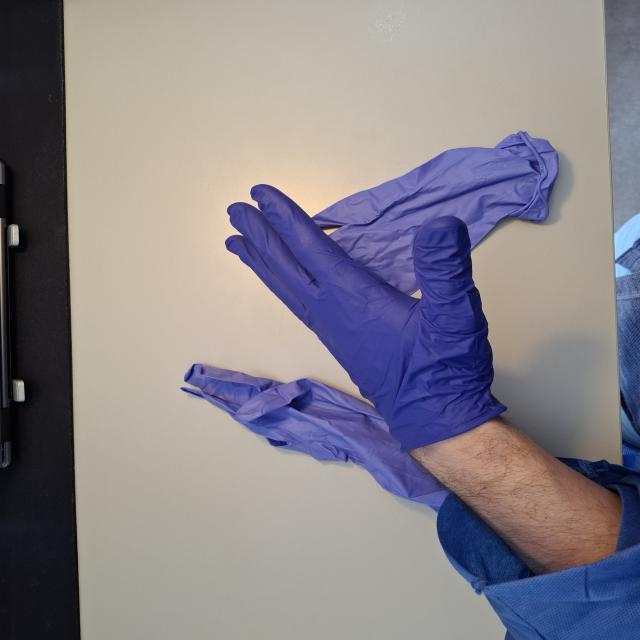glove_on: (222, 181, 500, 455)
